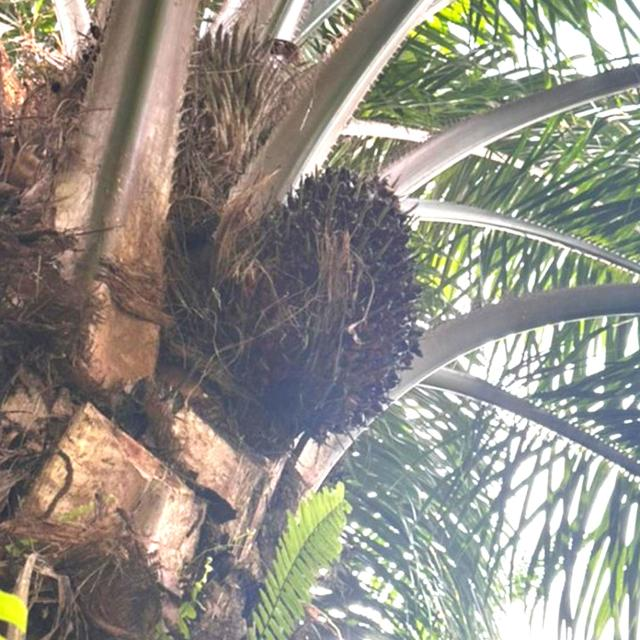ripe: (265, 150, 425, 427)
